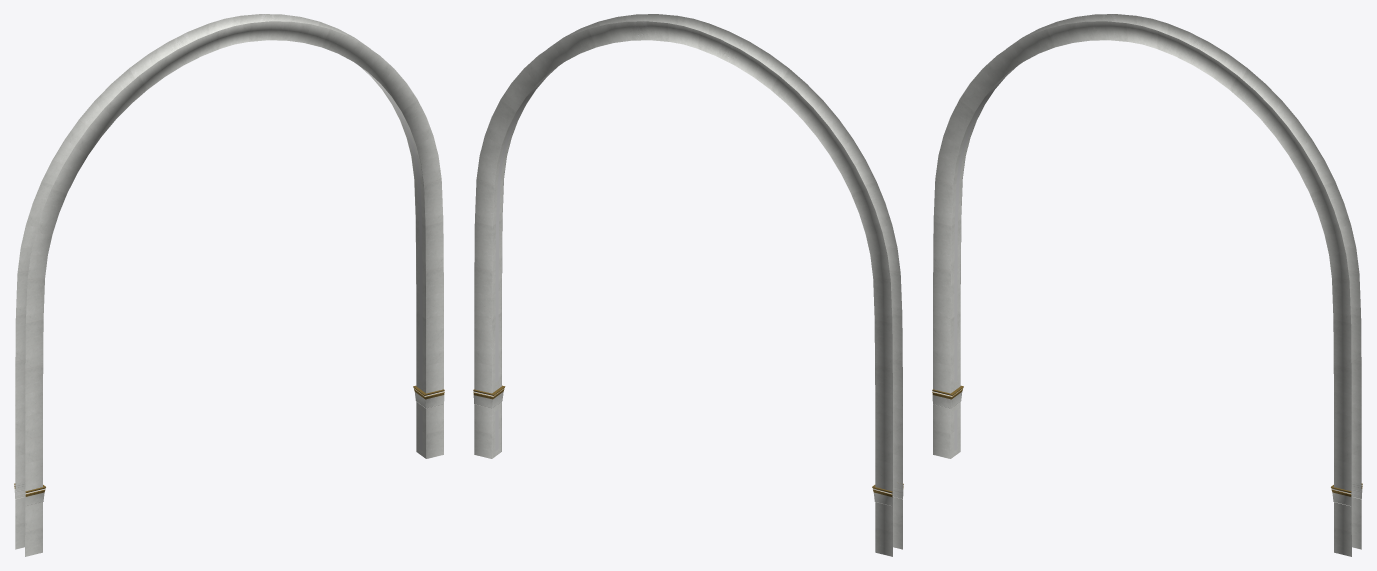
Rendered from ArchSmallTest2.fbx.
3 renders of one model, left to right at view 1: azimuth 30°, elevation 25°; view 2: azimuth 150°, elevation 25°; view 3: azimuth 330°, elevation 25°, orthographic.
Parts seen in each view (by area): view 1: Cylinder.041; view 2: Cylinder.041; view 3: Cylinder.041.
Boxes of the visible parts, <box> form: Cylinder.041: <box>14,14,444,556</box>; Cylinder.041: <box>473,14,903,556</box>; Cylinder.041: <box>932,14,1362,556</box>.
Size of the model in its own units: 845 by 924 by 40.54.
